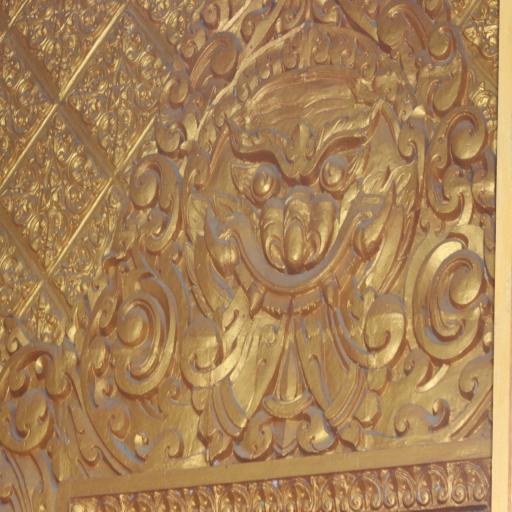hoa: (69, 10, 174, 164), (8, 112, 104, 271), (22, 0, 125, 91), (1, 44, 51, 184), (145, 0, 218, 53), (0, 226, 43, 305)
la: (350, 248, 486, 445), (85, 269, 170, 476), (0, 344, 81, 503), (403, 120, 488, 244), (158, 34, 240, 148), (386, 0, 468, 110), (110, 152, 187, 264)
